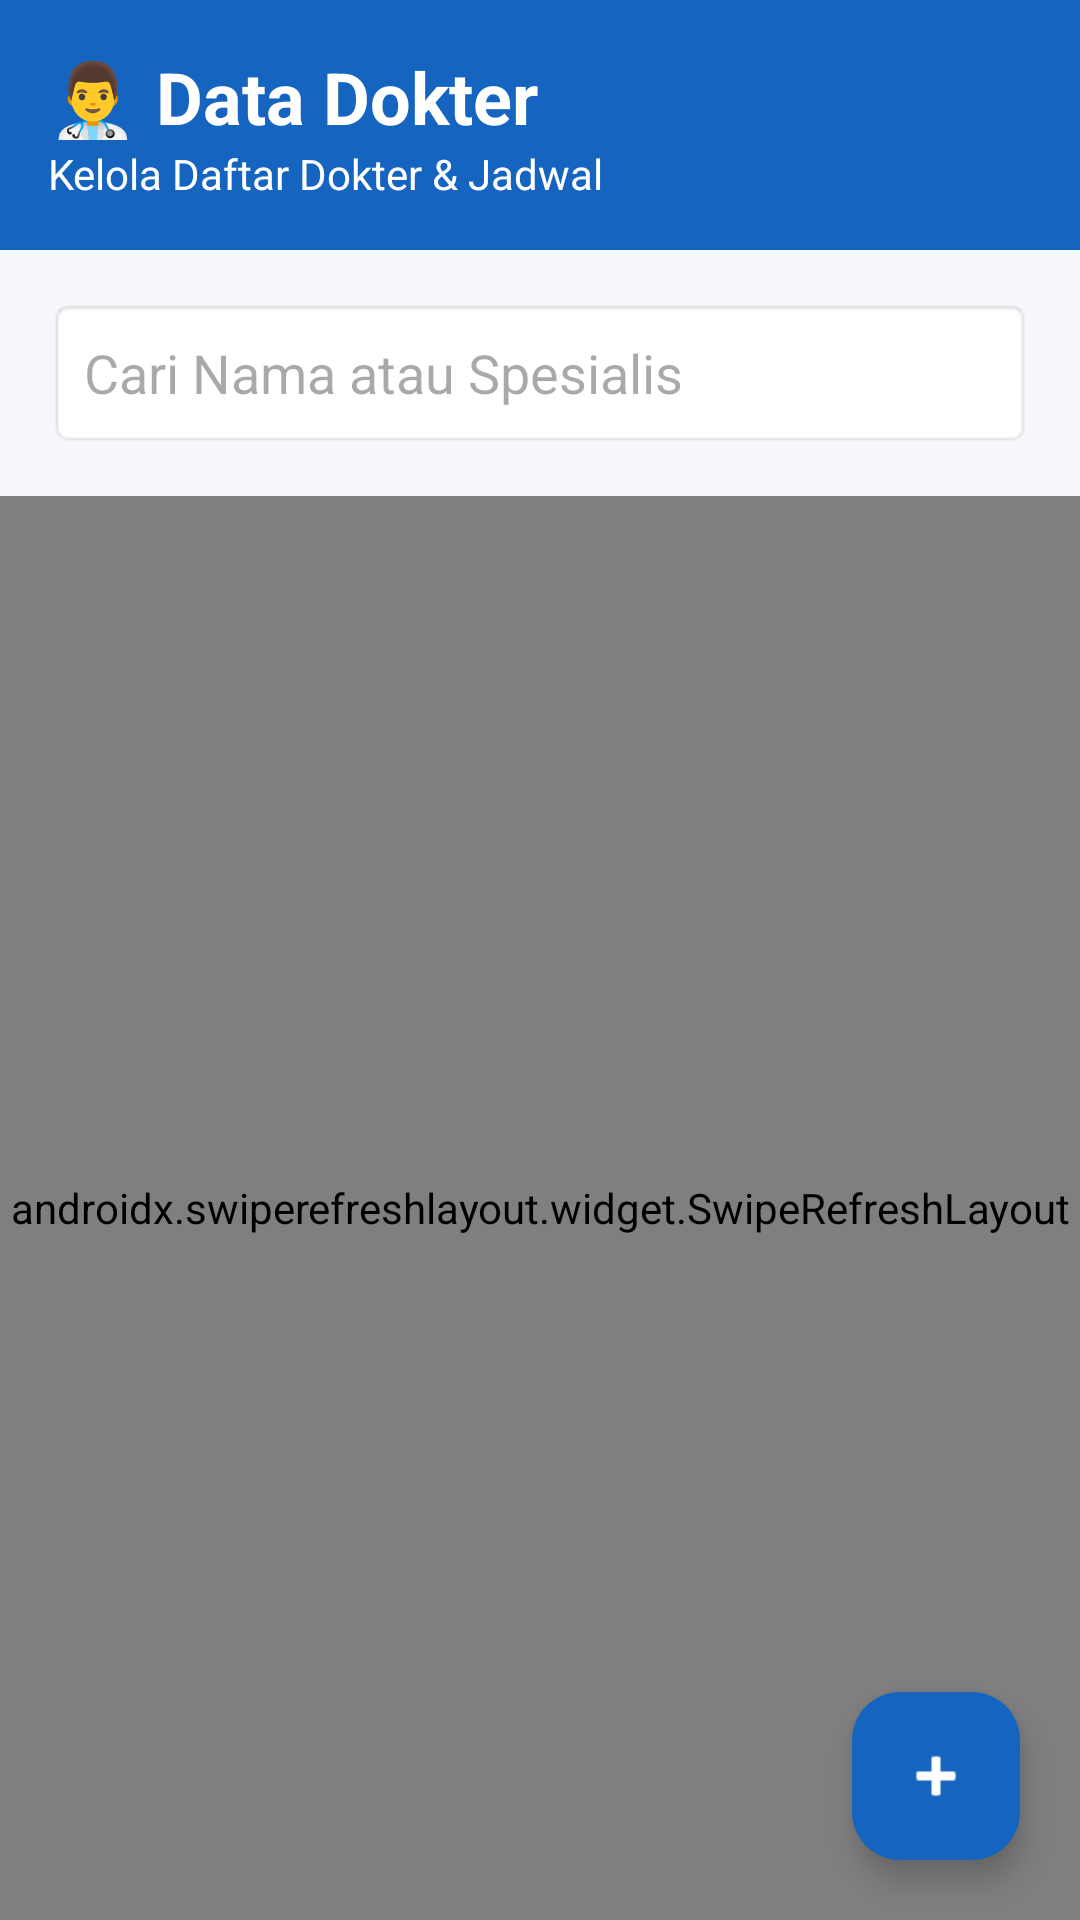

Icon click points for this 1080x1920 phone screenshot, format (x=x, y=y):
Tambah Dokter: (x=936, y=1776)
